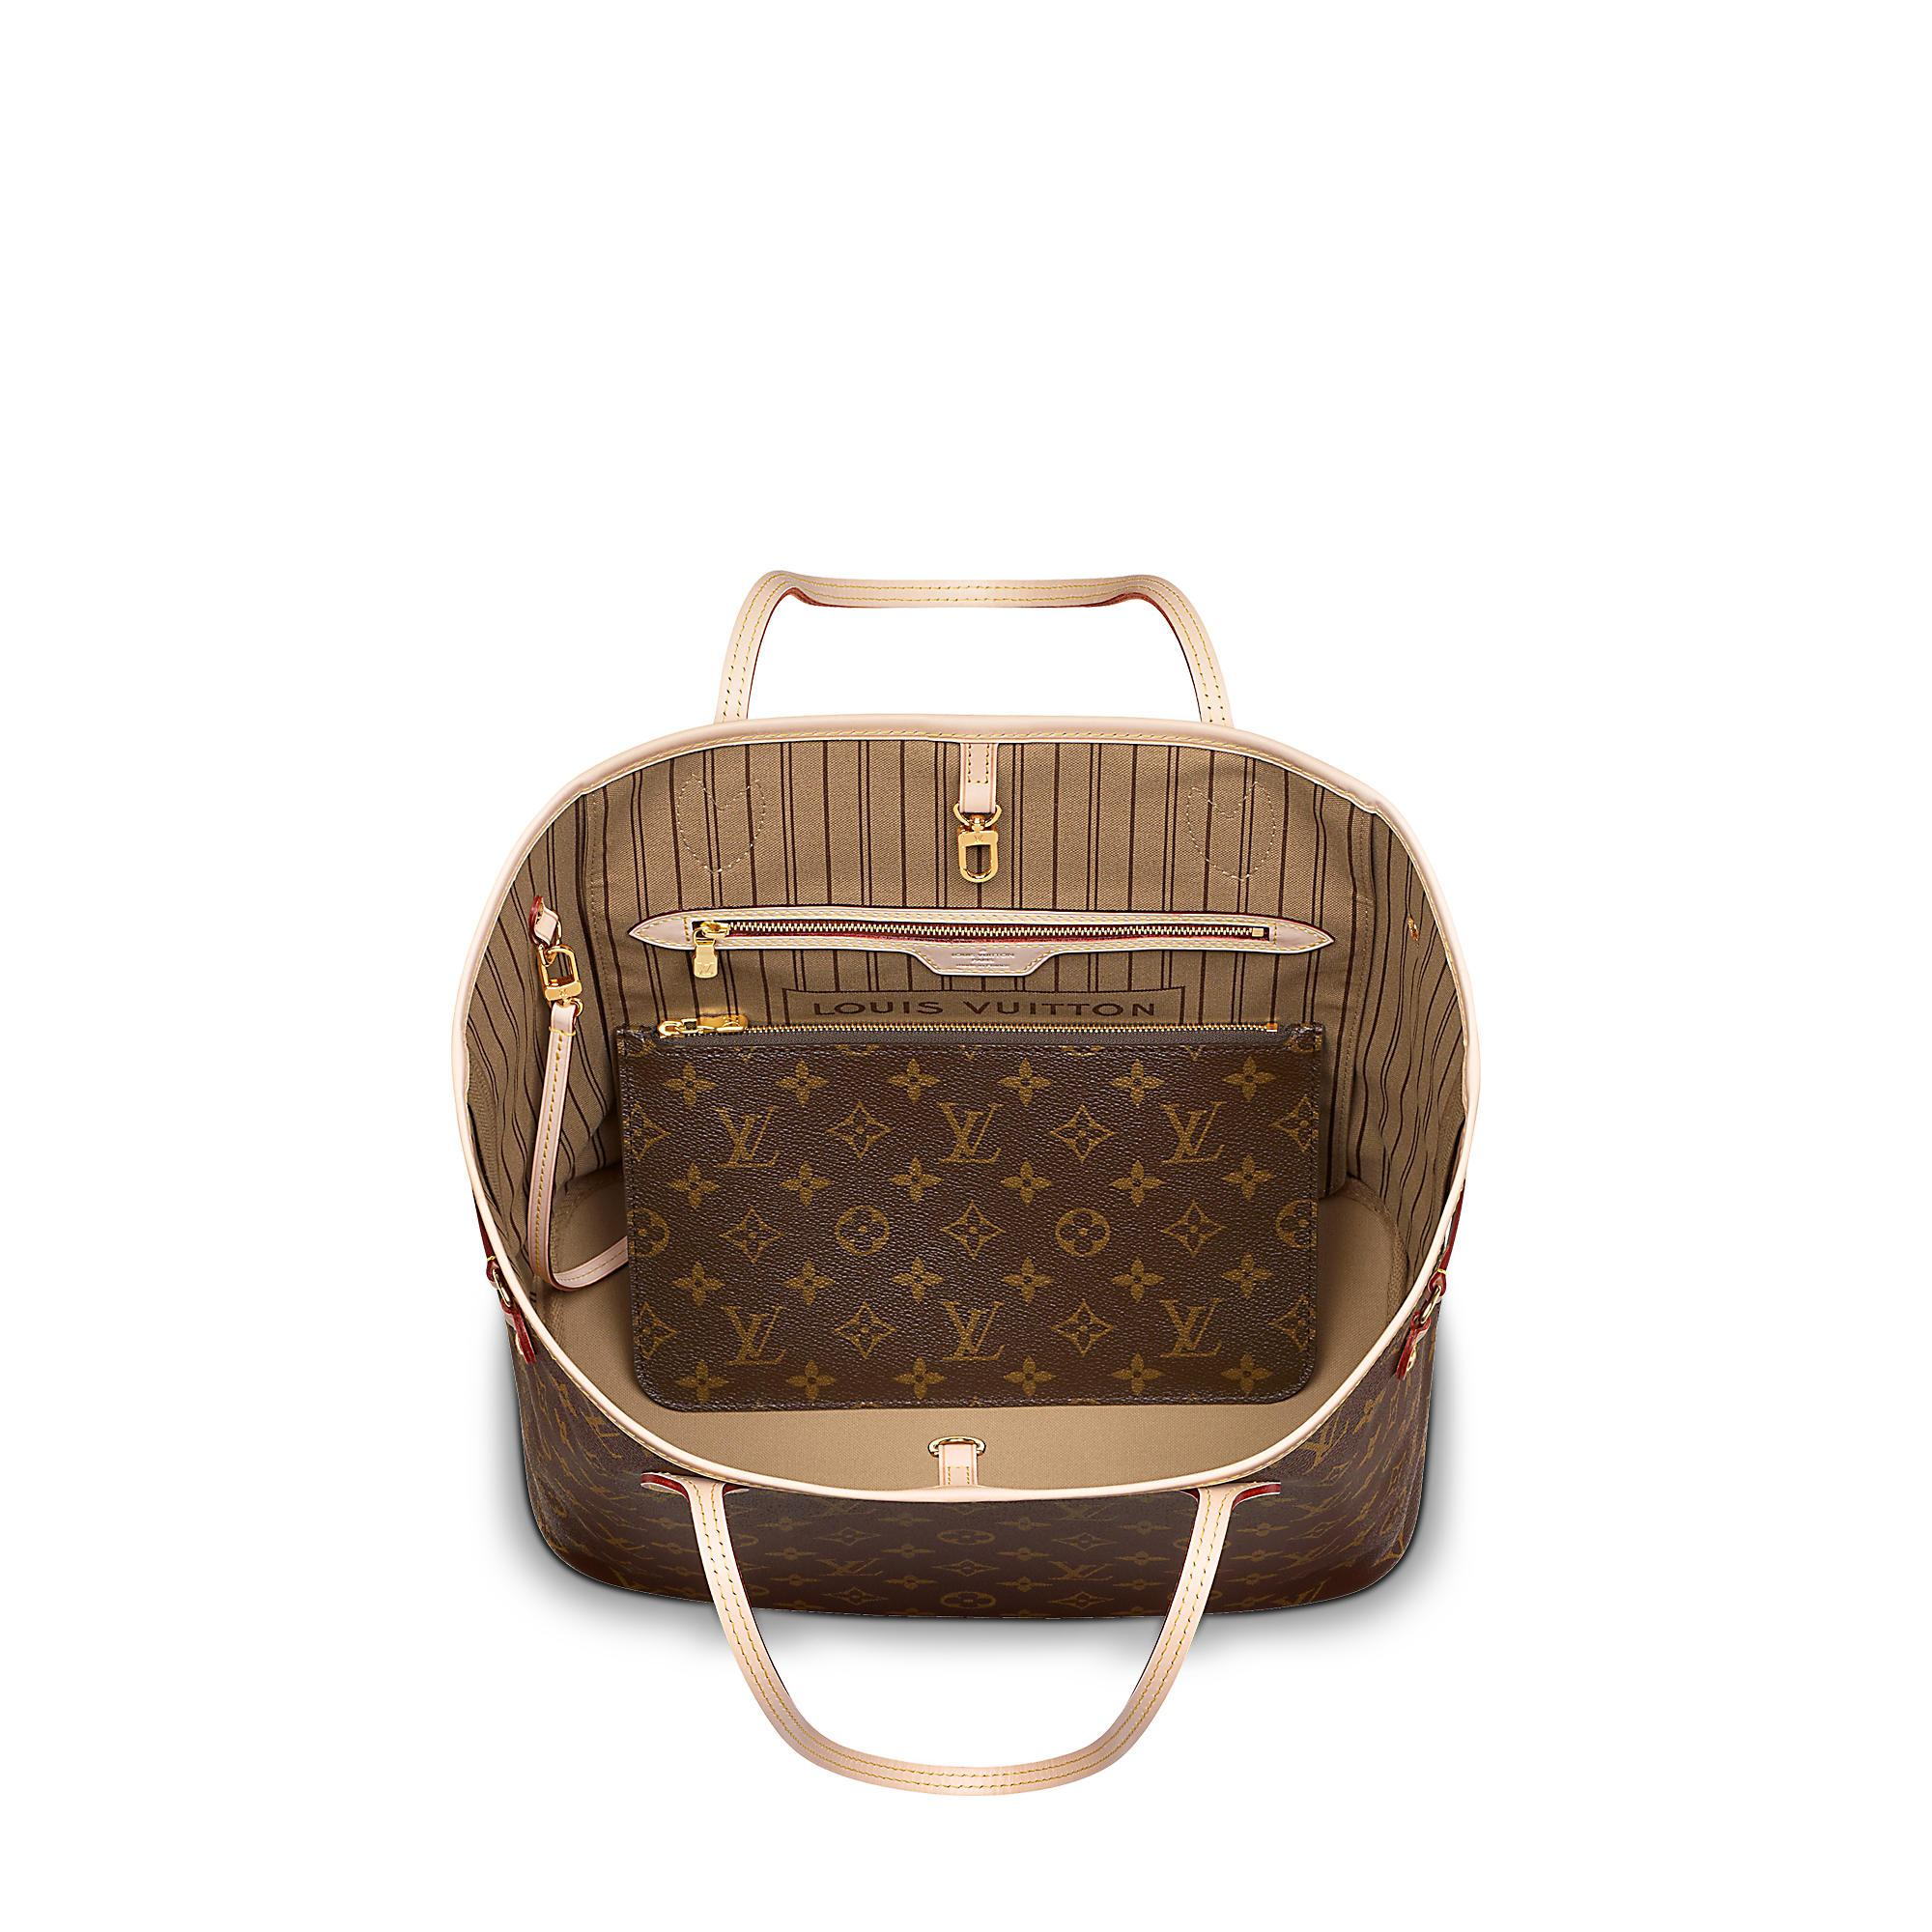LOUIS-VUITTON: (931, 1099, 1007, 1168), (1159, 1099, 1230, 1168), (936, 1297, 1003, 1368), (713, 1102, 778, 1175), (718, 1300, 787, 1368), (1152, 1297, 1224, 1361), (1299, 1403, 1350, 1477), (575, 1387, 623, 1460), (577, 1463, 637, 1514), (1290, 1483, 1352, 1525), (1277, 1537, 1343, 1576), (593, 1520, 651, 1562), (1044, 1559, 1118, 1583), (1053, 1499, 1118, 1525), (803, 1497, 878, 1520), (817, 1555, 879, 1580)
